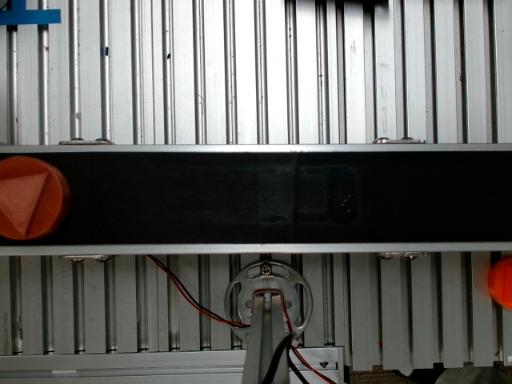Brown_Waper: (0, 158, 70, 240)
Not_Square: (0, 171, 50, 238)
